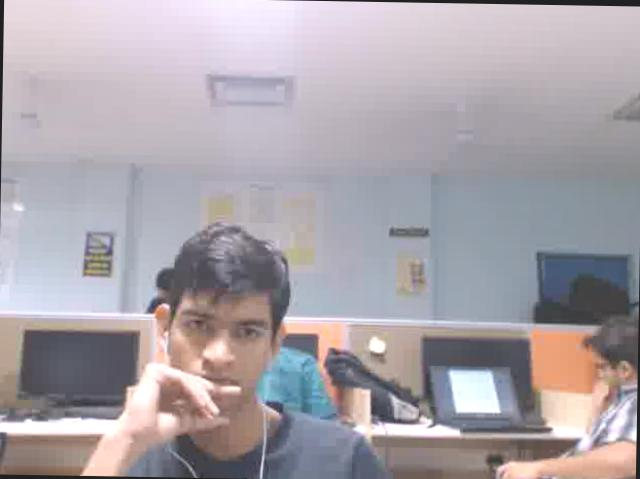bingung: (169, 280, 275, 412)
